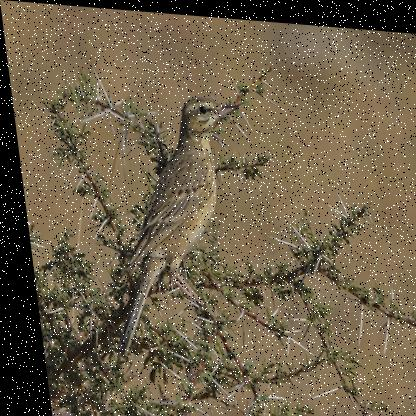Burung: (82, 84, 265, 366)
